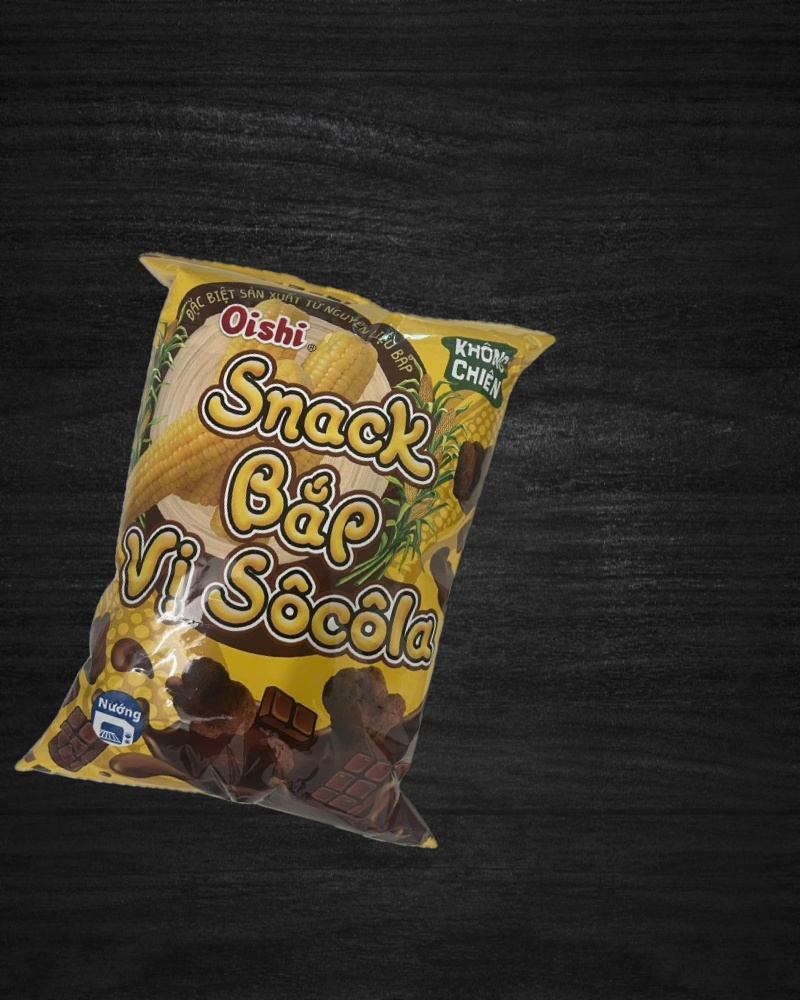Snack socola: (7, 230, 573, 870)
